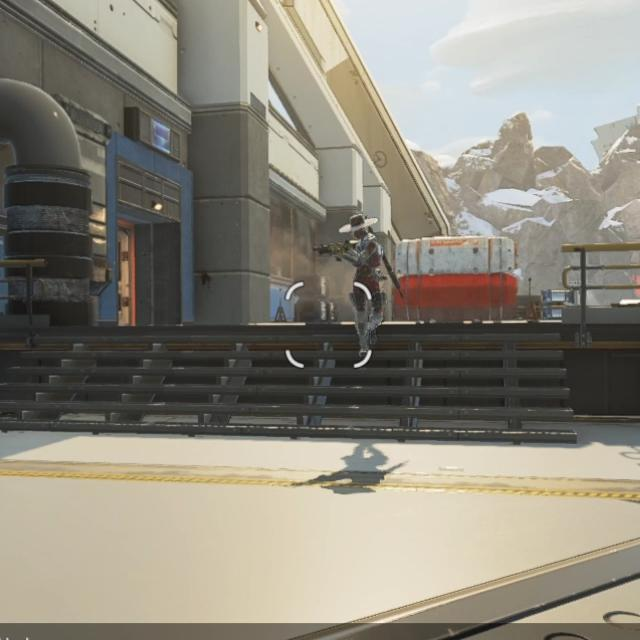avatar: (337, 212, 389, 359)
